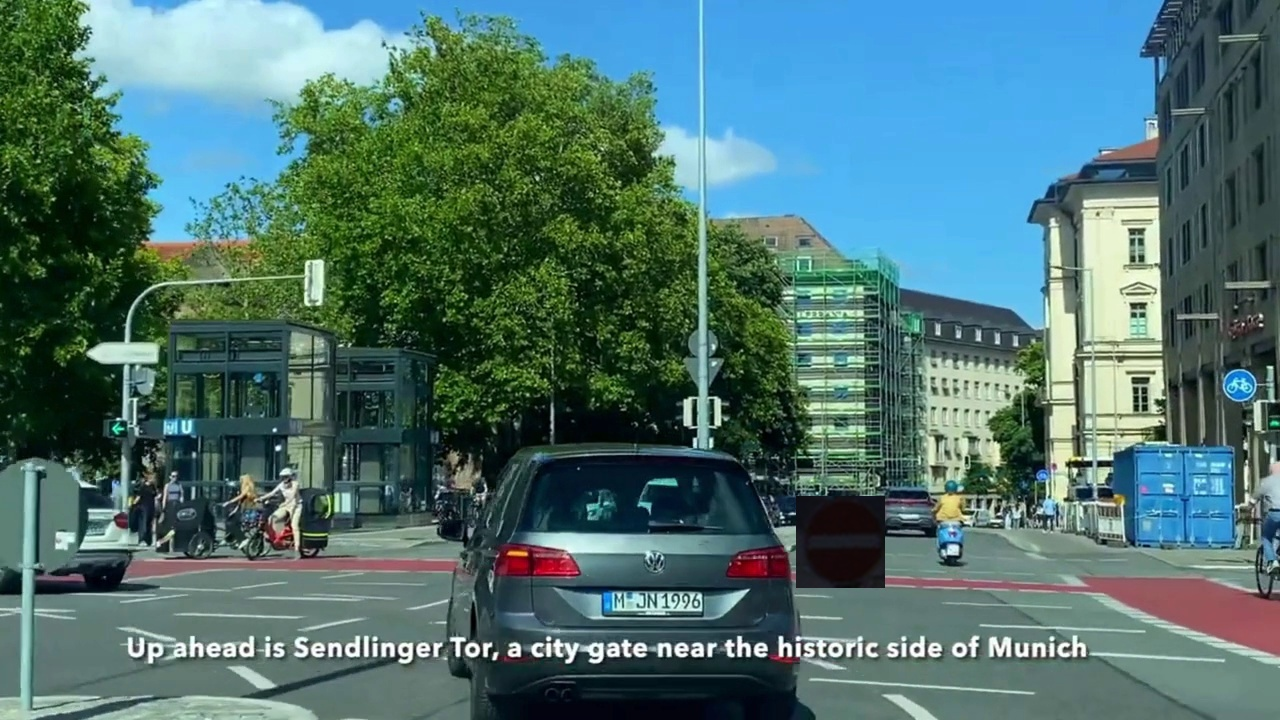No entry: (796, 496, 885, 588)
